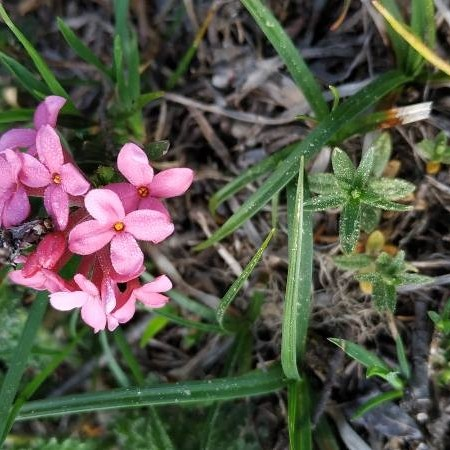obstacle: (243, 111, 398, 375), (12, 114, 184, 340)
